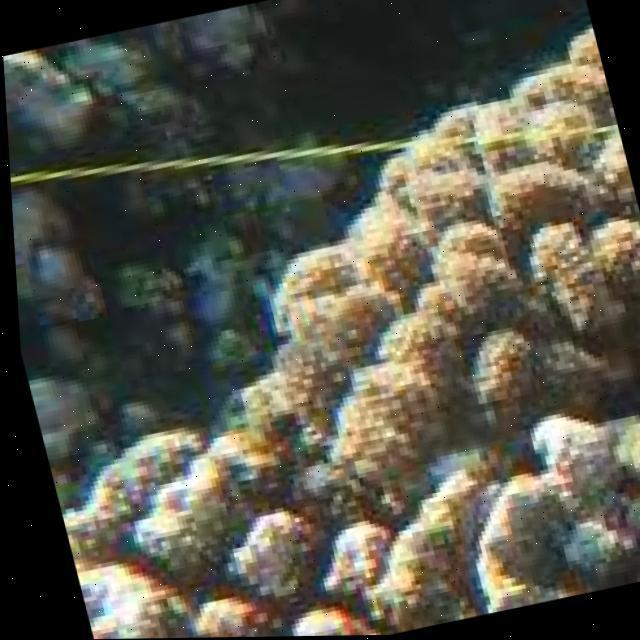Healthy Coral: (62, 26, 640, 640)
